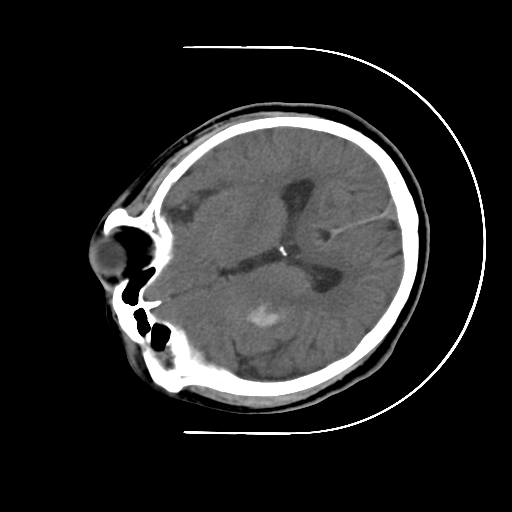a: (227, 284, 297, 343)
